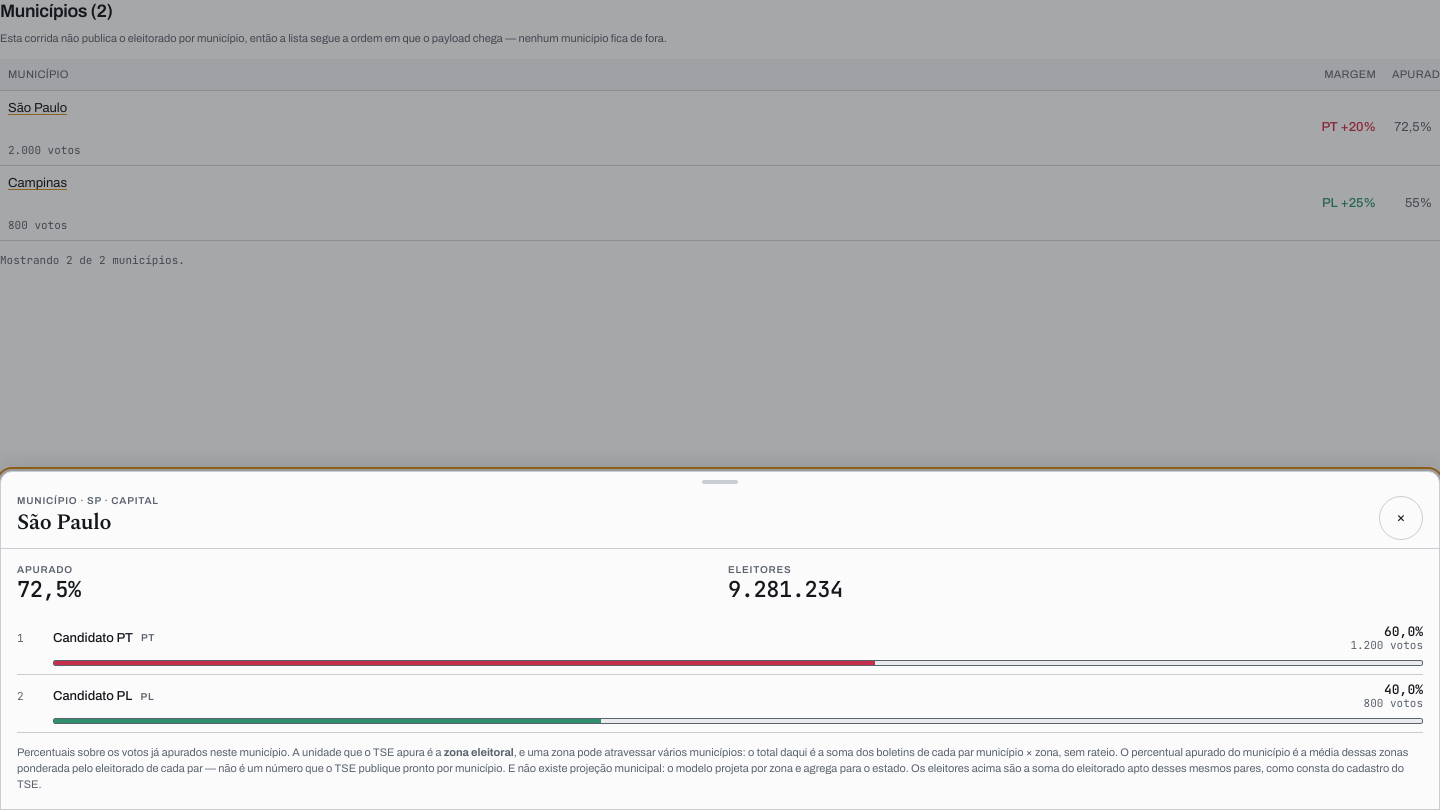
Scenario: <MunicipioExplorer /> — a folha aberta pelo mapa › (j) a capital aparece no kicker da folha
Check: the dialog with test id "sheet" shows "Município · SP · capital", box [17,495,159,506]
Click the button with test id "sheet-close": [1401, 518] box [1379,496,1423,540]
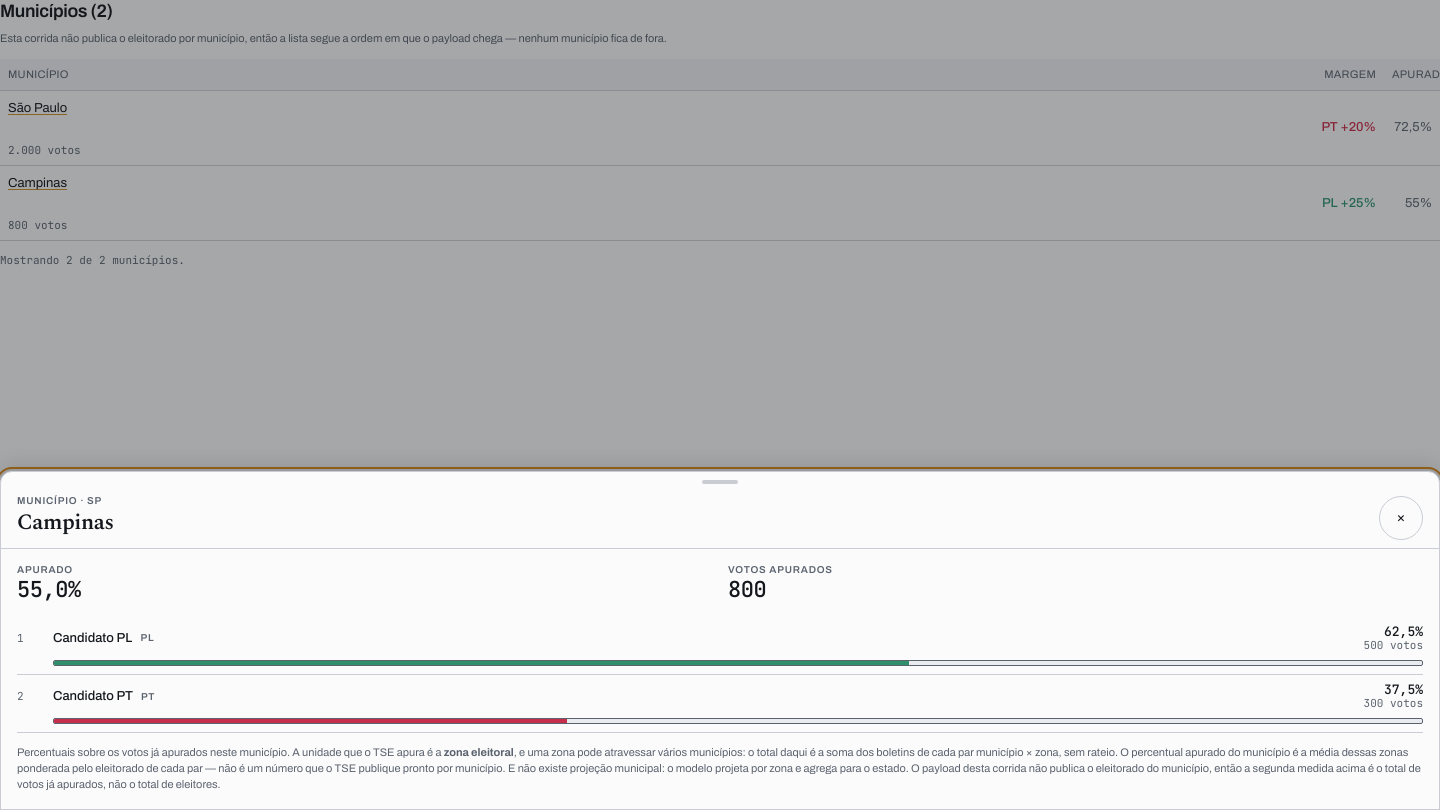
Check: the dialog with test id "sheet" shows "Município · SP", box [17,495,102,506]
Check: the text with test id "sheet" no longer shows "· capital"
